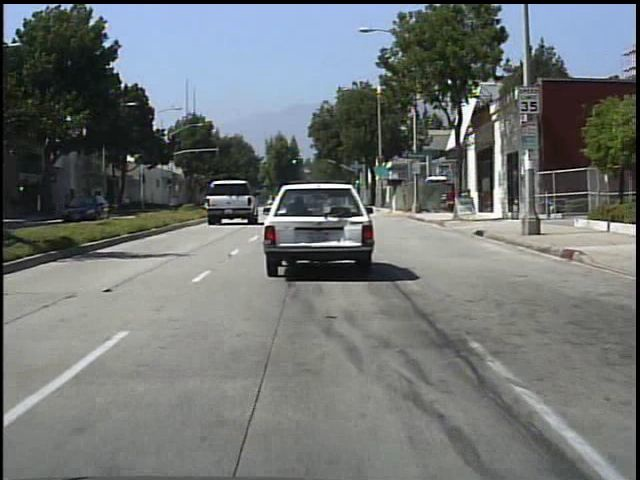person: (65, 197, 76, 220), (124, 195, 133, 215)
